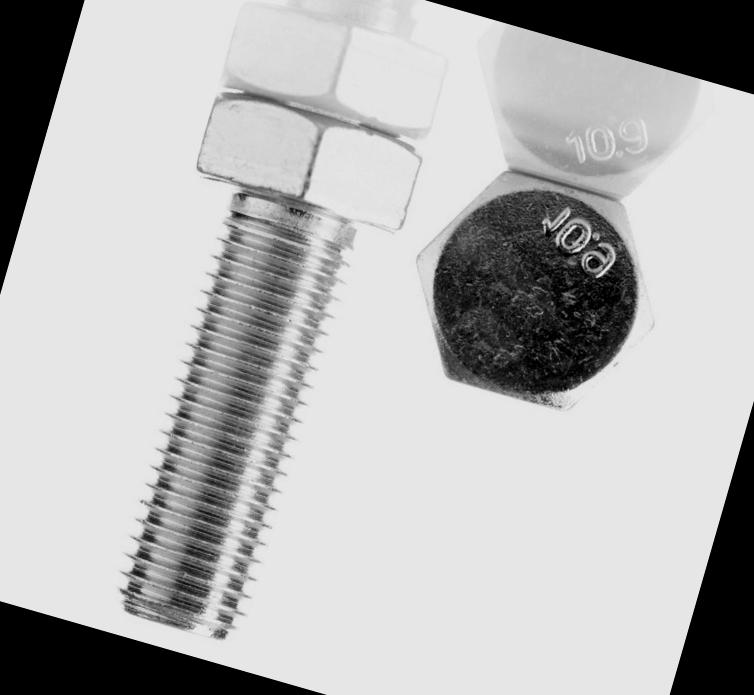hexagonal: (386, 151, 684, 434)
